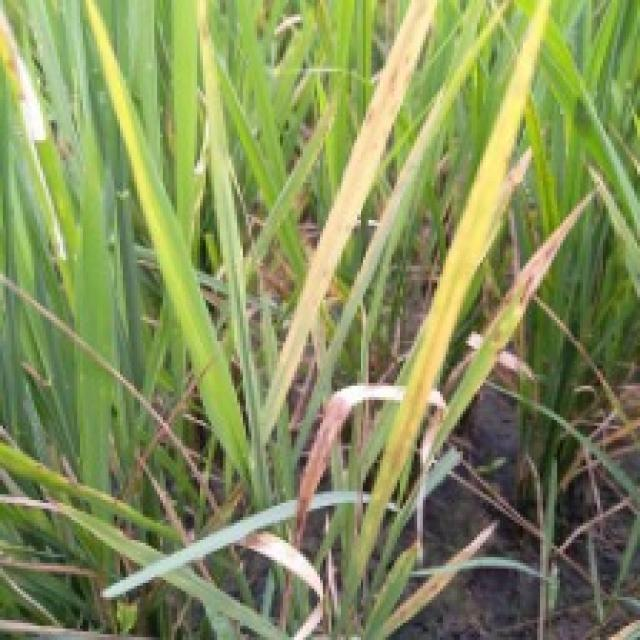Unhealthy: (365, 0, 554, 572), (264, 0, 445, 413), (289, 385, 407, 550), (486, 193, 590, 335), (244, 530, 327, 640), (417, 388, 448, 555), (391, 571, 459, 617), (442, 521, 495, 565)
